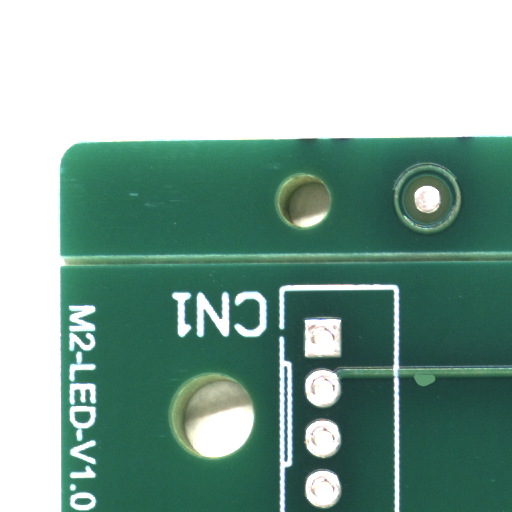Spur: (424, 380, 449, 393)
